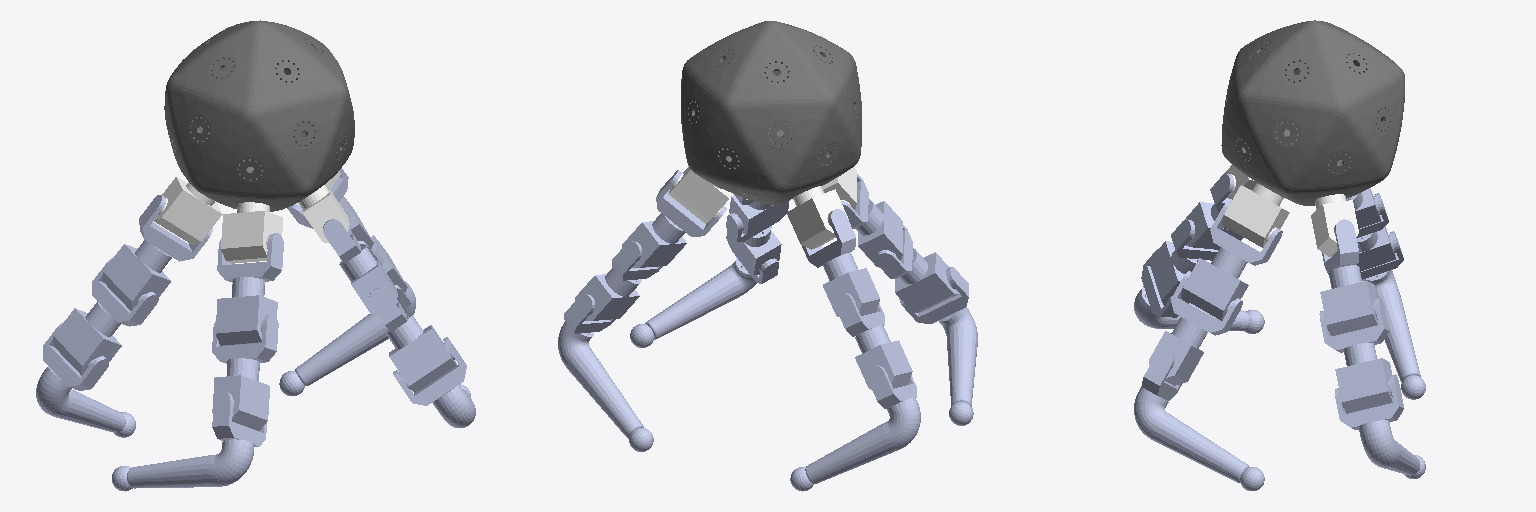
The robot description file, URDF, robot "mod_test":
<?xml version="1.0" encoding="utf-8"?>
<robot
  name="mod_test">
  <link
    name="base_link">
    <inertial>
      <origin
        xyz="-1.5226495220944E-06 1.5812928362389E-07 -5.05247252856584E-07"
        rpy="0 0 0" />
      <mass
        value="0.422806992949252" />
      <inertia
        ixx="0.00237499139253511"
        ixy="1.5717831530364E-08"
        ixz="1.49286265366169E-08"
        iyy="0.00237502154661776"
        iyz="-2.02154172619351E-08"
        izz="0.00237502595466009" />
    </inertial>
    <visual>
      <origin
        xyz="0 0 0"
        rpy="0 0 0" />
      <geometry>
        <mesh
          filename="package://meshes/base_link.STL" />
      </geometry>
      <material
        name="">
        <color
          rgba="0.498039215686275 0.498039215686275 0.498039215686275 1" />
      </material>
    </visual>
    <collision>
      <origin
        xyz="0 0 0"
        rpy="0 0 0" />
      <geometry>
        <mesh
          filename="package://meshes/base_link.STL" />
      </geometry>
    </collision>
  </link>
  <link
   name="160">
   <inertial>
      <origin
        xyz="0 0 0.028508"
        rpy="0 0 0" />
      <mass
        value="0.076173" />
      <inertia
        ixx="3.054E-05"
        ixy="-0.000000"
        ixz="-0.000000"
        iyy="2.1077E-05"
        iyz="-0.000000"
        izz="2.1165E-05" />
    </inertial>
    <visual>
      <origin
        xyz="0 0 0"
        rpy="0 0 0" />
      <geometry>
        <mesh
          filename="package://meshes/1.STL" />
      </geometry>
      <material
        name="">
        <color
          rgba="1 1 1 1" />
      </material>
    </visual>
    <collision>
      <origin
        xyz="0 0 0"
        rpy="0 0 0" />
      <geometry>
        <mesh
          filename="package://meshes/1.STL" />
      </geometry>
    </collision>
  </link>
  <joint
    name="body_160"
    type="fixed">
    <origin
        xyz="0.051623 0.016773 -0.071046"
        rpy="2.489189 -0.000000 1.884956" />
    <parent
      link="base_link" />
    <child
      link="160" />
    <axis
      xyz="0 0 0" />
  </joint>
  <link
    name="161">
    <inertial>
      <origin
        xyz="0.060018 -1.4108E-06 1.4108E-06"
        rpy="0 0 0" />
    <mass
        value="0.10689" />
      <inertia
        ixx="3.2684e-05"
        ixy="-2.5662e-09"
        ixz="2.5662e-09"
        iyy="8.6498e-05"
        iyz="-4.0975e-06"
        izz="8.2217e-05" />
    </inertial>
    <visual>
      <origin
        xyz="0 0 0"
        rpy="0 0 0" />
      <geometry>
        <mesh
          filename="package://meshes/module10.STL" />
      </geometry>
      <material
        name="">
        <color
          rgba="0.79216 0.81961 0.93333 1" />
      </material>
    </visual>
    <collision>
      <origin
        xyz="0 0 0"
        rpy="0 0 0" />
      <geometry>
        <mesh
          filename="package://meshes/module10.STL" />
      </geometry>
    </collision>
  </link>
  <joint
    name="160_161"
    type="revolute">
    <origin
      xyz="0 0 0.04"
      rpy="-1.558 -1.5708 -0.012835" />
    <parent
      link="160" />
    <child
      link="161" />
    <axis
      xyz="0 0 1" />
    <limit
      lower="-6.28"
      upper="6.28"
      effort="10"
      velocity="100" />
  </joint>
  <link
    name="162">
    <inertial>
      <origin
        xyz="0.060018 -1.4108E-06 1.4108E-06"
        rpy="0 0 0" />
    <mass
        value="0.10689" />
      <inertia
        ixx="3.2684e-05"
        ixy="-2.5662e-09"
        ixz="2.5662e-09"
        iyy="9.3595e-05"
        iyz="-2.1275e-13"
        izz="7.512e-05" />
    </inertial>
    <visual>
      <origin
        xyz="0 0 0"
        rpy="0 0 0" />
      <geometry>
        <mesh
          filename="package://meshes/module6.STL" />
      </geometry>
      <material
        name="">
        <color
          rgba="0.79216 0.81961 0.93333 1" />
      </material>
    </visual>
    <collision>
      <origin
        xyz="0 0 0"
        rpy="0 0 0" />
      <geometry>
        <mesh
          filename="package://meshes/module6.STL" />
      </geometry>
    </collision>
  </link>
  <joint
    name="161_162"
    type="revolute">
    <origin
      xyz="0.0816 0 0"
      rpy="5.235988 0 0" />
    <parent
      link="161" />
    <child
      link="162" />
    <axis
      xyz="0 0 1" />
    <limit
      lower="-6.28"
      upper="6.28"
      effort="10"
      velocity="100" />
  </joint>
  <link
    name="163">
    <inertial>
      <origin
        xyz="0.051733 -0.042281 -1.3878E-17"
        rpy="0 0 0" />
    <mass
        value="0.12059" />
      <inertia
        ixx="0.00025425"
        ixy="4.8319E-05"
        ixz="0"
        iyy="5.0194E-05"
        iyz="-3.3141E-21"
        izz="0.00027482" />
    </inertial>
    <visual>
      <origin
        xyz="0 0 0"
        rpy="0 0 0" />
      <geometry>
        <mesh
          filename="package://meshes/leg.STL" />
      </geometry>
      <material
        name="">
        <color
          rgba="0.79216 0.81961 0.93333 1" />
      </material>
    </visual>
    <collision>
      <origin
        xyz="0 0 0"
        rpy="0 0 0" />
      <geometry>
        <mesh
          filename="package://meshes/leg.STL" />
      </geometry>
    </collision>
  </link>
  <joint
    name="162_163"
    type="revolute">
    <origin
      xyz="0.0816 0 0"
      rpy="3.141593 0 0" />
    <parent
      link="162" />
    <child
      link="163" />
    <axis
      xyz="0 0 1" />
    <limit
      lower="-6.28"
      upper="6.28"
      effort="10"
      velocity="100" />
  </joint>
  <link
   name="150">
   <inertial>
      <origin
        xyz="0 0 0.028508"
        rpy="0 0 0" />
      <mass
        value="0.076173" />
      <inertia
        ixx="3.054E-05"
        ixy="0.000000"
        ixz="-0.000000"
        iyy="2.1077E-05"
        iyz="-0.000000"
        izz="2.1165E-05" />
    </inertial>
    <visual>
      <origin
        xyz="0 0 0"
        rpy="0 0 0" />
      <geometry>
        <mesh
          filename="package://meshes/1.STL" />
      </geometry>
      <material
        name="">
        <color
          rgba="1 1 1 1" />
      </material>
    </visual>
    <collision>
      <origin
        xyz="0 0 0"
        rpy="0 0 0" />
      <geometry>
        <mesh
          filename="package://meshes/1.STL" />
      </geometry>
    </collision>
  </link>
  <joint
    name="body_150"
    type="fixed">
    <origin
        xyz="0.031905 -0.043913 -0.071046"
        rpy="2.776697 -0.553612 -0.314143" />
    <parent
      link="base_link" />
    <child
      link="150" />
    <axis
      xyz="0 0 0" />
  </joint>
  <link
    name="151">
    <inertial>
      <origin
        xyz="0.060018 -1.4108E-06 1.4108E-06"
        rpy="0 0 0" />
    <mass
        value="0.10689" />
      <inertia
        ixx="3.2684e-05"
        ixy="-2.5662e-09"
        ixz="2.5662e-09"
        iyy="9.3595e-05"
        iyz="-2.1275e-13"
        izz="7.512e-05" />
    </inertial>
    <visual>
      <origin
        xyz="0 0 0"
        rpy="0 0 0" />
      <geometry>
        <mesh
          filename="package://meshes/module6.STL" />
      </geometry>
      <material
        name="">
        <color
          rgba="0.79216 0.81961 0.93333 1" />
      </material>
    </visual>
    <collision>
      <origin
        xyz="0 0 0"
        rpy="0 0 0" />
      <geometry>
        <mesh
          filename="package://meshes/module6.STL" />
      </geometry>
    </collision>
  </link>
  <joint
    name="150_151"
    type="revolute">
    <origin
      xyz="0 0 0.04"
      rpy="-1.558 -1.5708 -0.012835" />
    <parent
      link="150" />
    <child
      link="151" />
    <axis
      xyz="0 0 1" />
    <limit
      lower="-6.28"
      upper="6.28"
      effort="10"
      velocity="100" />
  </joint>
  <link
    name="152">
    <inertial>
      <origin
        xyz="0.060018 -1.4108E-06 1.4108E-06"
        rpy="0 0 0" />
    <mass
        value="0.10689" />
      <inertia
        ixx="3.2684e-05"
        ixy="-2.5662e-09"
        ixz="2.5662e-09"
        iyy="8.4132e-05"
        iyz="-2.1275e-13"
        izz="8.4583e-05" />
    </inertial>
    <visual>
      <origin
        xyz="0 0 0"
        rpy="0 0 0" />
      <geometry>
        <mesh
          filename="package://meshes/module9.STL" />
      </geometry>
      <material
        name="">
        <color
          rgba="0.79216 0.81961 0.93333 1" />
      </material>
    </visual>
    <collision>
      <origin
        xyz="0 0 0"
        rpy="0 0 0" />
      <geometry>
        <mesh
          filename="package://meshes/module9.STL" />
      </geometry>
    </collision>
  </link>
  <joint
    name="151_152"
    type="revolute">
    <origin
      xyz="0.0816 0 0"
      rpy="3.141593 0 0" />
    <parent
      link="151" />
    <child
      link="152" />
    <axis
      xyz="0 0 1" />
    <limit
      lower="-6.28"
      upper="6.28"
      effort="10"
      velocity="100" />
  </joint>
  <link
    name="153">
    <inertial>
      <origin
        xyz="0.051733 -0.042281 -1.3878E-17"
        rpy="0 0 0" />
    <mass
        value="0.12059" />
      <inertia
        ixx="0.00025425"
        ixy="4.8319E-05"
        ixz="0"
        iyy="5.0194E-05"
        iyz="-3.3141E-21"
        izz="0.00027482" />
    </inertial>
    <visual>
      <origin
        xyz="0 0 0"
        rpy="0 0 0" />
      <geometry>
        <mesh
          filename="package://meshes/leg.STL" />
      </geometry>
      <material
        name="">
        <color
          rgba="0.79216 0.81961 0.93333 1" />
      </material>
    </visual>
    <collision>
      <origin
        xyz="0 0 0"
        rpy="0 0 0" />
      <geometry>
        <mesh
          filename="package://meshes/leg.STL" />
      </geometry>
    </collision>
  </link>
  <joint
    name="152_153"
    type="revolute">
    <origin
      xyz="0.0816 0 0"
      rpy="4.712389 0 0" />
    <parent
      link="152" />
    <child
      link="153" />
    <axis
      xyz="0 0 1" />
    <limit
      lower="-6.28"
      upper="6.28"
      effort="10"
      velocity="100" />
  </joint>
  <link
   name="190">
   <inertial>
      <origin
        xyz="0 0 0.028508"
        rpy="0 0 0" />
      <mass
        value="0.076173" />
      <inertia
        ixx="3.054E-05"
        ixy="0.000000"
        ixz="0.000000"
        iyy="2.1077E-05"
        iyz="0.000021"
        izz="2.1165E-05" />
    </inertial>
    <visual>
      <origin
        xyz="0 0 0"
        rpy="0 0 0" />
      <geometry>
        <mesh
          filename="package://meshes/1.STL" />
      </geometry>
      <material
        name="">
        <color
          rgba="1 1 1 1" />
      </material>
    </visual>
    <collision>
      <origin
        xyz="0 0 0"
        rpy="0 0 0" />
      <geometry>
        <mesh
          filename="package://meshes/1.STL" />
      </geometry>
    </collision>
  </link>
  <joint
    name="body_190"
    type="fixed">
    <origin
        xyz="-0.031905 -0.043913 -0.071046"
        rpy="-2.776697 -0.553612 -2.827450" />
    <parent
      link="base_link" />
    <child
      link="190" />
    <axis
      xyz="0 0 0" />
  </joint>
  <link
    name="191">
    <inertial>
      <origin
        xyz="0.060018 -1.4108E-06 1.4108E-06"
        rpy="0 0 0" />
    <mass
        value="0.10689" />
      <inertia
        ixx="3.2684e-05"
        ixy="-2.5662e-09"
        ixz="2.5662e-09"
        iyy="9.3595e-05"
        iyz="-2.1275e-13"
        izz="7.512e-05" />
    </inertial>
    <visual>
      <origin
        xyz="0 0 0"
        rpy="0 0 0" />
      <geometry>
        <mesh
          filename="package://meshes/module6.STL" />
      </geometry>
      <material
        name="">
        <color
          rgba="0.79216 0.81961 0.93333 1" />
      </material>
    </visual>
    <collision>
      <origin
        xyz="0 0 0"
        rpy="0 0 0" />
      <geometry>
        <mesh
          filename="package://meshes/module6.STL" />
      </geometry>
    </collision>
  </link>
  <joint
    name="190_191"
    type="revolute">
    <origin
      xyz="0 0 0.04"
      rpy="-1.558 -1.5708 -0.012835" />
    <parent
      link="190" />
    <child
      link="191" />
    <axis
      xyz="0 0 1" />
    <limit
      lower="-6.28"
      upper="6.28"
      effort="10"
      velocity="100" />
  </joint>
  <link
    name="192">
    <inertial>
      <origin
        xyz="0.060018 -1.4108E-06 1.4108E-06"
        rpy="0 0 0" />
    <mass
        value="0.10689" />
      <inertia
        ixx="3.2684e-05"
        ixy="-2.5662e-09"
        ixz="2.5662e-09"
        iyy="8.4132e-05"
        iyz="-2.1275e-13"
        izz="8.4583e-05" />
    </inertial>
    <visual>
      <origin
        xyz="0 0 0"
        rpy="0 0 0" />
      <geometry>
        <mesh
          filename="package://meshes/module3.STL" />
      </geometry>
      <material
        name="">
        <color
          rgba="0.79216 0.81961 0.93333 1" />
      </material>
    </visual>
    <collision>
      <origin
        xyz="0 0 0"
        rpy="0 0 0" />
      <geometry>
        <mesh
          filename="package://meshes/module3.STL" />
      </geometry>
    </collision>
  </link>
  <joint
    name="191_192"
    type="revolute">
    <origin
      xyz="0.0816 0 0"
      rpy="3.141593 0 0" />
    <parent
      link="191" />
    <child
      link="192" />
    <axis
      xyz="0 0 1" />
    <limit
      lower="-6.28"
      upper="6.28"
      effort="10"
      velocity="100" />
  </joint>
  <link
    name="193">
    <inertial>
      <origin
        xyz="0.051733 -0.042281 -1.3878E-17"
        rpy="0 0 0" />
    <mass
        value="0.12059" />
      <inertia
        ixx="0.00025425"
        ixy="4.8319E-05"
        ixz="0"
        iyy="5.0194E-05"
        iyz="-3.3141E-21"
        izz="0.00027482" />
    </inertial>
    <visual>
      <origin
        xyz="0 0 0"
        rpy="0 0 0" />
      <geometry>
        <mesh
          filename="package://meshes/leg.STL" />
      </geometry>
      <material
        name="">
        <color
          rgba="0.79216 0.81961 0.93333 1" />
      </material>
    </visual>
    <collision>
      <origin
        xyz="0 0 0"
        rpy="0 0 0" />
      <geometry>
        <mesh
          filename="package://meshes/leg.STL" />
      </geometry>
    </collision>
  </link>
  <joint
    name="192_193"
    type="revolute">
    <origin
      xyz="0.0816 0 0"
      rpy="1.570796 0 0" />
    <parent
      link="192" />
    <child
      link="193" />
    <axis
      xyz="0 0 1" />
    <limit
      lower="-6.28"
      upper="6.28"
      effort="10"
      velocity="100" />
  </joint>
  <link
   name="180">
   <inertial>
      <origin
        xyz="0 0 0.028508"
        rpy="0 0 0" />
      <mass
        value="0.076173" />
      <inertia
        ixx="3.054E-05"
        ixy="-0.000000"
        ixz="-0.000000"
        iyy="2.1077E-05"
        iyz="0.000000"
        izz="2.1165E-05" />
    </inertial>
    <visual>
      <origin
        xyz="0 0 0"
        rpy="0 0 0" />
      <geometry>
        <mesh
          filename="package://meshes/1.STL" />
      </geometry>
      <material
        name="">
        <color
          rgba="1 1 1 1" />
      </material>
    </visual>
    <collision>
      <origin
        xyz="0 0 0"
        rpy="0 0 0" />
      <geometry>
        <mesh
          filename="package://meshes/1.STL" />
      </geometry>
    </collision>
  </link>
  <joint
    name="body_180"
    type="fixed">
    <origin
        xyz="-0.051623 0.016773 -0.071046"
        rpy="-2.489189 -0.000000 1.256637" />
    <parent
      link="base_link" />
    <child
      link="180" />
    <axis
      xyz="0 0 0" />
  </joint>
  <link
    name="181">
    <inertial>
      <origin
        xyz="0.060018 -1.4108E-06 1.4108E-06"
        rpy="0 0 0" />
    <mass
        value="0.10689" />
      <inertia
        ixx="3.2684e-05"
        ixy="-2.5662e-09"
        ixz="2.5662e-09"
        iyy="8.6498e-05"
        iyz="4.0975e-06"
        izz="8.2217e-05" />
    </inertial>
    <visual>
      <origin
        xyz="0 0 0"
        rpy="0 0 0" />
      <geometry>
        <mesh
          filename="package://meshes/module2.STL" />
      </geometry>
      <material
        name="">
        <color
          rgba="0.79216 0.81961 0.93333 1" />
      </material>
    </visual>
    <collision>
      <origin
        xyz="0 0 0"
        rpy="0 0 0" />
      <geometry>
        <mesh
          filename="package://meshes/module2.STL" />
      </geometry>
    </collision>
  </link>
  <joint
    name="180_181"
    type="revolute">
    <origin
      xyz="0 0 0.04"
      rpy="-1.558 -1.5708 -0.012835" />
    <parent
      link="180" />
    <child
      link="181" />
    <axis
      xyz="0 0 1" />
    <limit
      lower="-6.28"
      upper="6.28"
      effort="10"
      velocity="100" />
  </joint>
  <link
    name="182">
    <inertial>
      <origin
        xyz="0.060018 -1.4108E-06 1.4108E-06"
        rpy="0 0 0" />
    <mass
        value="0.10689" />
      <inertia
        ixx="3.2684e-05"
        ixy="-2.5662e-09"
        ixz="2.5662e-09"
        iyy="9.3595e-05"
        iyz="-2.1275e-13"
        izz="7.512e-05" />
    </inertial>
    <visual>
      <origin
        xyz="0 0 0"
        rpy="0 0 0" />
      <geometry>
        <mesh
          filename="package://meshes/module6.STL" />
      </geometry>
      <material
        name="">
        <color
          rgba="0.79216 0.81961 0.93333 1" />
      </material>
    </visual>
    <collision>
      <origin
        xyz="0 0 0"
        rpy="0 0 0" />
      <geometry>
        <mesh
          filename="package://meshes/module6.STL" />
      </geometry>
    </collision>
  </link>
  <joint
    name="181_182"
    type="revolute">
    <origin
      xyz="0.0816 0 0"
      rpy="1.047198 0 0" />
    <parent
      link="181" />
    <child
      link="182" />
    <axis
      xyz="0 0 1" />
    <limit
      lower="-6.28"
      upper="6.28"
      effort="10"
      velocity="100" />
  </joint>
  <link
    name="183">
    <inertial>
      <origin
        xyz="0.051733 -0.042281 -1.3878E-17"
        rpy="0 0 0" />
    <mass
        value="0.12059" />
      <inertia
        ixx="0.00025425"
        ixy="4.8319E-05"
        ixz="0"
        iyy="5.0194E-05"
        iyz="-3.3141E-21"
        izz="0.00027482" />
    </inertial>
    <visual>
      <origin
        xyz="0 0 0"
        rpy="0 0 0" />
      <geometry>
        <mesh
          filename="package://meshes/leg.STL" />
      </geometry>
      <material
        name="">
        <color
          rgba="0.79216 0.81961 0.93333 1" />
      </material>
    </visual>
    <collision>
      <origin
        xyz="0 0 0"
        rpy="0 0 0" />
      <geometry>
        <mesh
          filename="package://meshes/leg.STL" />
      </geometry>
    </collision>
  </link>
  <joint
    name="182_183"
    type="revolute">
    <origin
      xyz="0.0816 0 0"
      rpy="3.141593 0 0" />
    <parent
      link="182" />
    <child
      link="183" />
    <axis
      xyz="0 0 1" />
    <limit
      lower="-6.28"
      upper="6.28"
      effort="10"
      velocity="100" />
  </joint>
  <link
    name = "ball_1">
    <inertial>
    <origin
        xyz="0 0 0"
        rpy="0 0 0" />
    <mass
        value="0" />
      <inertia
        ixx="0"
        ixy="0"
        ixz="0"
        iyy="0"
        iyz="0"
        izz="0" />
    </inertial>    <visual>
      <origin
        xyz="0 0 0"
        rpy="0 0 0" />
     <geometry>
        <sphere radius = "0.01"/>
      </geometry>
      <material
        name="green">
        <color
          rgba="0.22 1 0.4 1" />
      </material>
    </visual>
  </link>
  <joint
  name="163_ball1"
  type="fixed">
    <origin
      xyz="0.0612 -0.13431 0"
      rpy="0 0 0" />
    <parent
      link="163" />
    <child
      link="ball_1" />
    <axis
      xyz="0 0 0" />
  </joint>
  <link
    name = "ball_2">
    <inertial>
    <origin
        xyz="0 0 0"
        rpy="0 0 0" />
    <mass
        value="0" />
      <inertia
        ixx="0"
        ixy="0"
        ixz="0"
        iyy="0"
        iyz="0"
        izz="0" />
    </inertial>    <visual>
      <origin
        xyz="0 0 0"
        rpy="0 0 0" />
      <geometry>
        <sphere radius = "0.01"/>
      </geometry>
      <material
        name="blue">
        <color
          rgba="0.16 0.52 0.8 1" />
      </material>
    </visual>
  </link>
  <joint
  name="153_ball2"
  type="fixed">
    <origin
      xyz="0.0612 -0.13431 0"
      rpy="0 0 0" />
    <parent
      link="153" />
    <child
      link="ball_2" />
    <axis
      xyz="0 0 0" />
  </joint>
  <link
    name = "ball_3">
    <inertial>
    <origin
        xyz="0 0 0"
        rpy="0 0 0" />
    <mass
        value="0" />
      <inertia
        ixx="0"
        ixy="0"
        ixz="0"
        iyy="0"
        iyz="0"
        izz="0" />
    </inertial>    <visual>
      <origin
        xyz="0 0 0"
        rpy="0 0 0" />
     <geometry>
        <sphere radius = "0.01"/>
      </geometry>
      <material
        name="blue">
        <color
          rgba="0.16 0.52 0.8 1" />
      </material>
    </visual>
  </link>
  <joint
  name="193_ball3"
  type="fixed">
    <origin
      xyz="0.0612 -0.13431 0"
      rpy="0 0 0" />
    <parent
      link="193" />
    <child
      link="ball_3" />
    <axis
      xyz="0 0 0" />
  </joint>
  <link
    name = "ball_4">
    <inertial>
    <origin
        xyz="0 0 0"
        rpy="0 0 0" />
    <mass
        value="0" />
      <inertia
        ixx="0"
        ixy="0"
        ixz="0"
        iyy="0"
        iyz="0"
        izz="0" />
    </inertial>    <visual>
      <origin
        xyz="0 0 0"
        rpy="0 0 0" />
      <geometry>
        <sphere radius = "0.01"/>
      </geometry>
      <material
        name="yellow">
        <color
          rgba="1 1 0 1" />
      </material>
    </visual>
  </link>
  <joint
  name="183_ball4"
  type="fixed">
    <origin
      xyz="0.0612 -0.13431 0"
      rpy="0 0 0" />
    <parent
      link="183" />
    <child
      link="ball_4" />
    <axis
      xyz="0 0 0" />
  </joint>
</robot>

--- Facts derived from the render (not from the file) ---
Views: 3 orthographic renders of the robot side by side, from view 1: azimuth 30°, elevation 25°; view 2: azimuth 150°, elevation 25°; view 3: azimuth 270°, elevation 25°.
Model mod_test with 21 links and 20 joints (12 revolute, 8 fixed), rooted at base_link, posed all joints at 0.
Links seen in each view (by area): view 1: base_link, 193, 181, 191, 183, 182, 192, 152, 163, 190, 180, 151 (+4 smaller); view 2: base_link, 183, 163, 193, 153, 181, 161, 192, 182, 162, 191, 180 (+4 smaller); view 3: base_link, 153, 162, 151, 161, 163, 183, 152, 150, 192, 193, 160 (+3 smaller).
Boxes of the visible links, x1,y1,x2,y2 form: base_link: [164, 20, 354, 211]; 193: [112, 391, 266, 491]; 181: [103, 195, 212, 310]; 191: [215, 233, 283, 345]; 183: [36, 322, 135, 437]; 182: [53, 257, 158, 375]; 192: [212, 315, 278, 430]; 152: [369, 288, 456, 392]; 163: [279, 281, 415, 395]; 190: [221, 202, 282, 263]; 180: [154, 177, 222, 245]; 151: [323, 219, 397, 314]; base_link: [681, 21, 861, 204]; 183: [790, 365, 920, 491]; 163: [558, 294, 653, 451]; 193: [899, 267, 977, 425]; 153: [630, 236, 778, 347]; 181: [801, 209, 879, 316]; 161: [622, 170, 726, 267]; 192: [875, 225, 959, 313]; 182: [834, 293, 912, 389]; 162: [575, 241, 662, 320]; 191: [841, 174, 902, 267]; 180: [787, 186, 848, 249]; base_link: [1221, 20, 1404, 205]; 153: [1134, 350, 1264, 490]; 162: [1319, 297, 1393, 413]; 151: [1181, 201, 1282, 320]; 161: [1320, 219, 1378, 335]; 163: [1335, 374, 1425, 478]; 183: [1360, 231, 1425, 399]; 152: [1149, 271, 1242, 385]; 150: [1222, 183, 1289, 247]; 192: [1149, 219, 1217, 305]; 193: [1134, 249, 1264, 333]; 160: [1311, 194, 1358, 256].
Bounding box of the posed robot: 0.4247 × 0.2968 × 0.4667 m (x, y, z).
Meshes: 8 distinct files referenced, 17 mesh visuals loaded (8 binary STL).